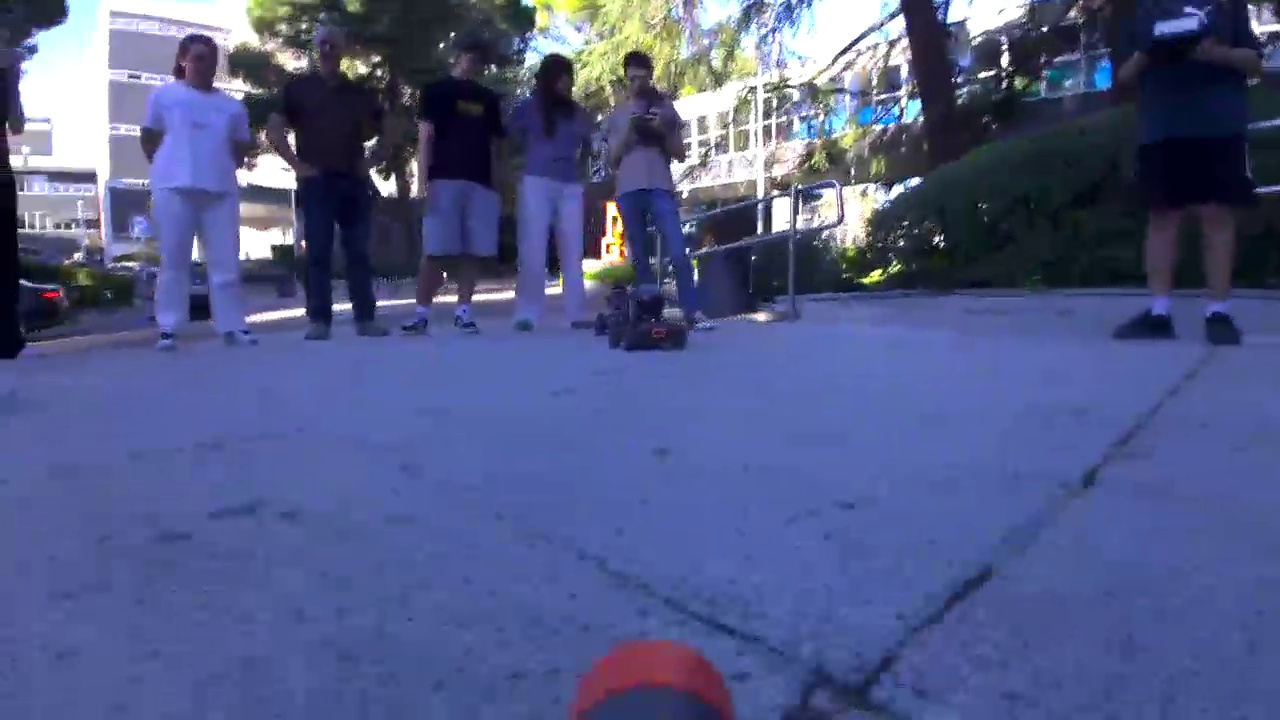robot: (596, 280, 692, 361), (580, 278, 635, 338)
